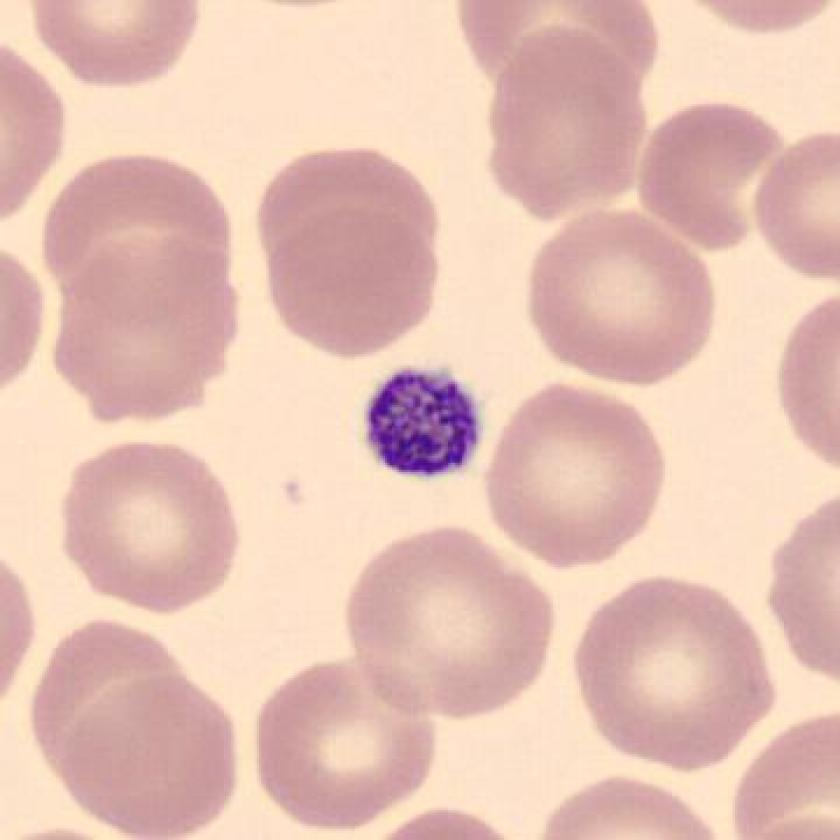platelets: (363, 358, 491, 492)
